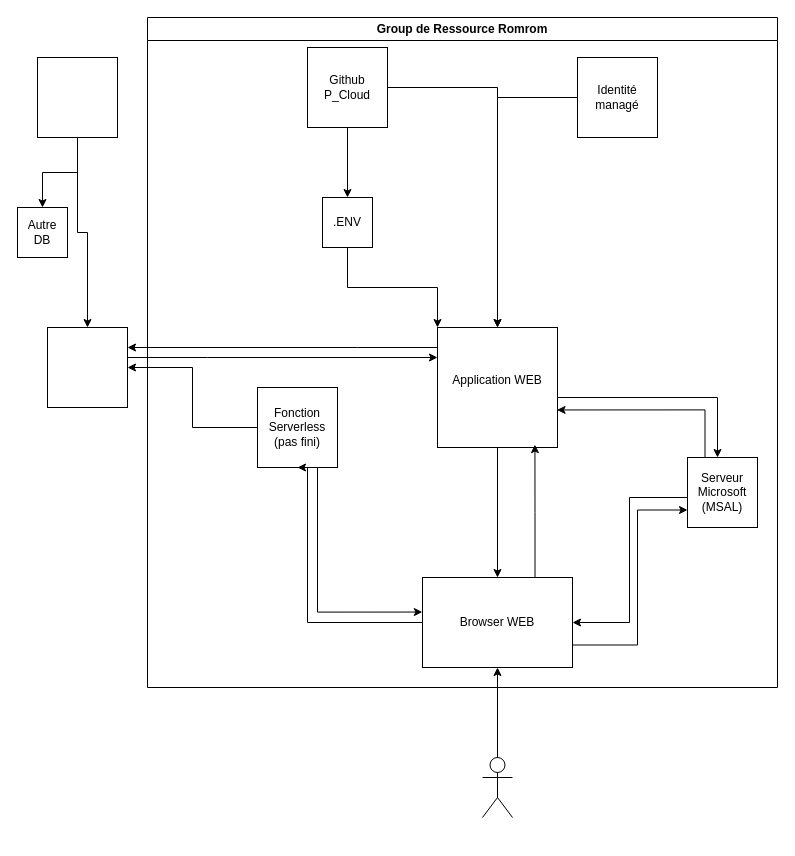
Some shapes in this 795 by 856 pixel diagram are drawn without their labels. Each missing label, with the centre of its shape:
Actor: the point at 497,787
DB-passionlecture: the point at 87,367
Serveur de Database: the point at 77,97
